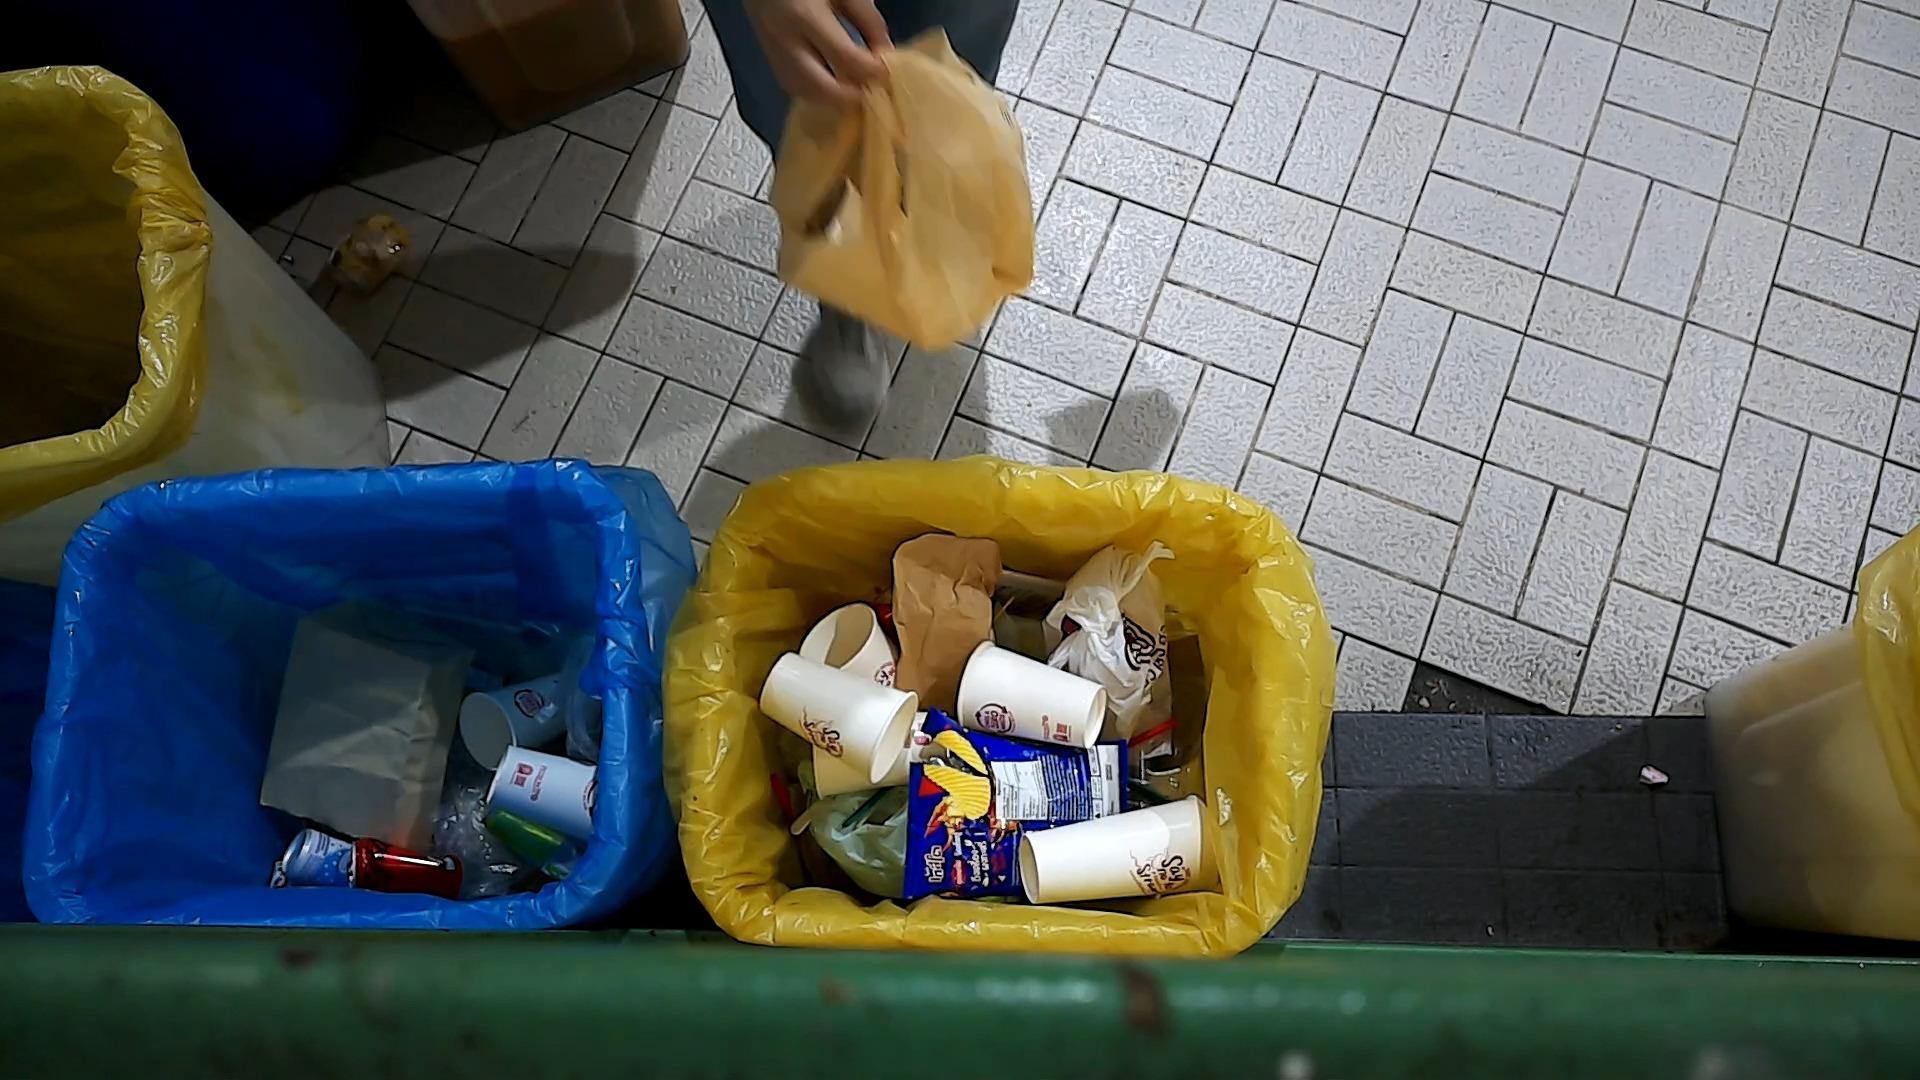can: (344, 832, 467, 904), (480, 804, 588, 883), (272, 826, 355, 887)
filled plastic bag: (764, 16, 1045, 368), (1038, 538, 1179, 764)
paper bag: (258, 587, 481, 857), (882, 528, 1003, 706)
snack packaging: (901, 704, 1133, 902)
zero waste cup: (1014, 791, 1225, 910), (755, 646, 919, 790), (951, 637, 1111, 753), (456, 664, 573, 776), (481, 741, 603, 845), (796, 599, 901, 696)
